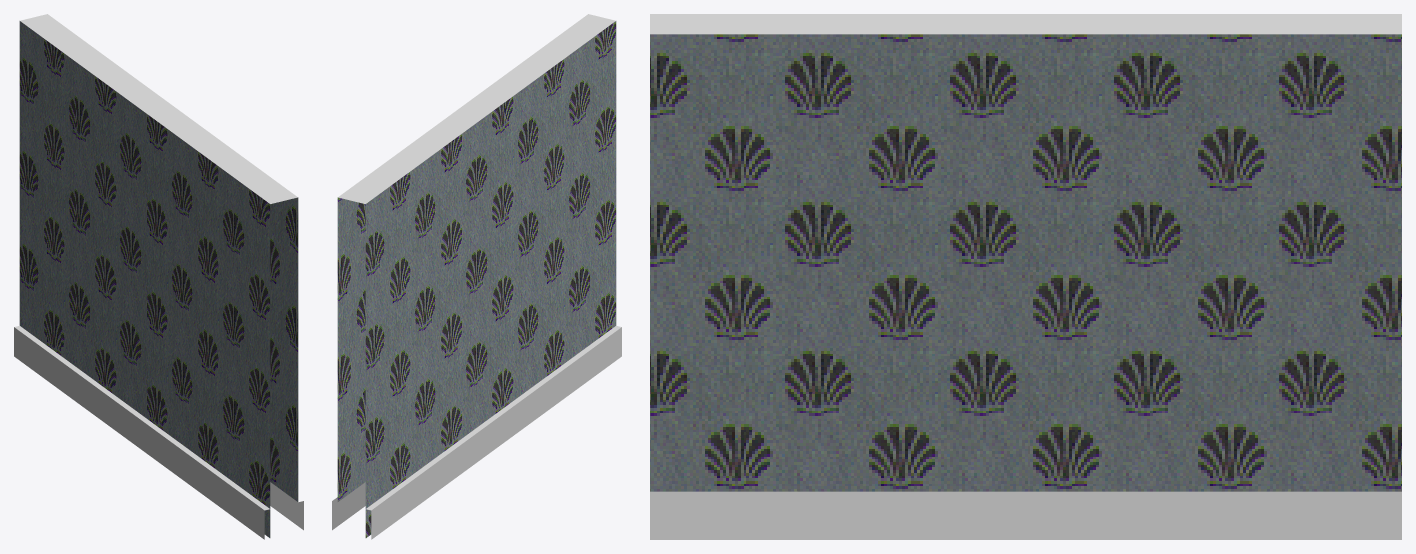
The model's file is wall.fbx.
3 views of the same model, side by side, from view 1: azimuth 30°, elevation 25°; view 2: azimuth 150°, elevation 25°; view 3: azimuth 270°, elevation 25° (orthographic). The views are drawn at different scales.
Parts seen in each view (by area): view 1: Apartment.001; view 2: Apartment.001; view 3: Apartment.001.
Boxes of the visible parts, x1=… form: Apartment.001: x1=14, y1=14, x2=303, y2=539; Apartment.001: x1=332, y1=14, x2=621, y2=539; Apartment.001: x1=650, y1=14, x2=1401, y2=539.
Size of the model in its own units: 69.43 by 568 by 771.
